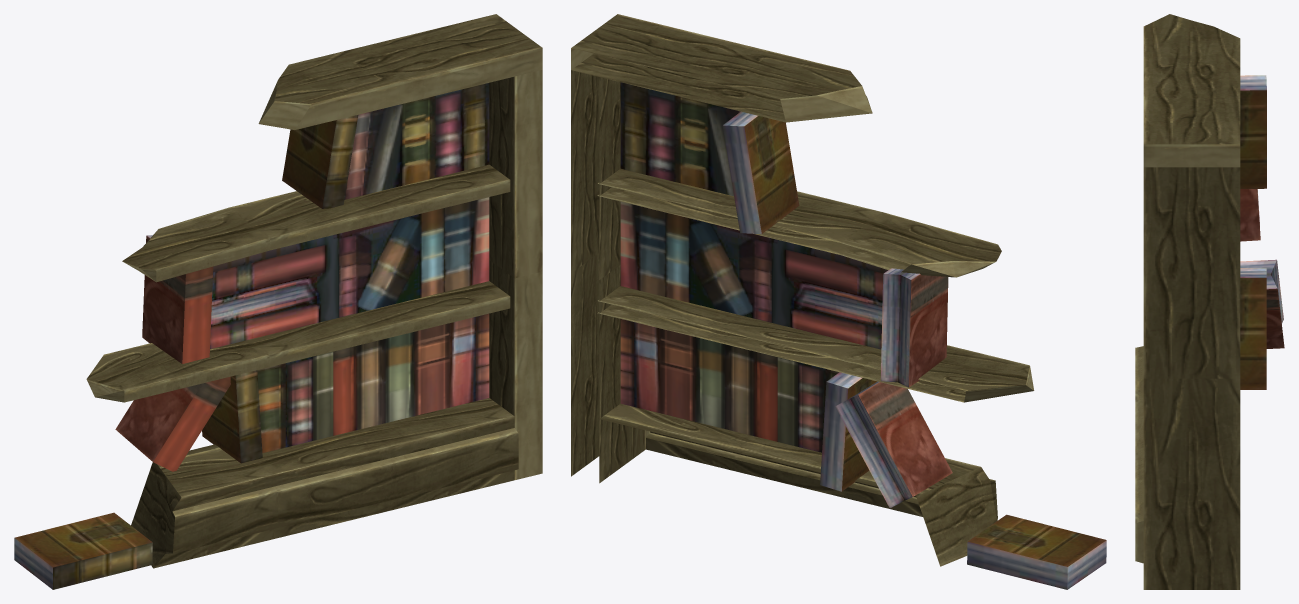
Rendered from F_shujia004.fbx.
3 views of the same model, side by side, from view 1: azimuth 30°, elevation 25°; view 2: azimuth 150°, elevation 25°; view 3: azimuth 270°, elevation 25° (orthographic). The views are drawn at different scales.
Parts seen in each view (by area): view 1: F_shujia004; view 2: F_shujia004; view 3: F_shujia004.
Part boxes in pixels (x1,y1,x2,y2): F_shujia004: (14, 14, 542, 589); F_shujia004: (571, 14, 1106, 589); F_shujia004: (1135, 14, 1284, 589).
Bounding box in the file's own units: 244 × 204 × 61.86.
